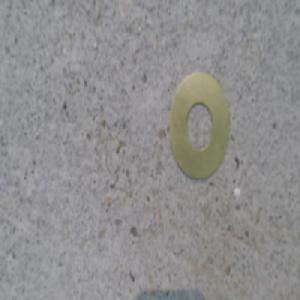Washer: (168, 69, 229, 182)
